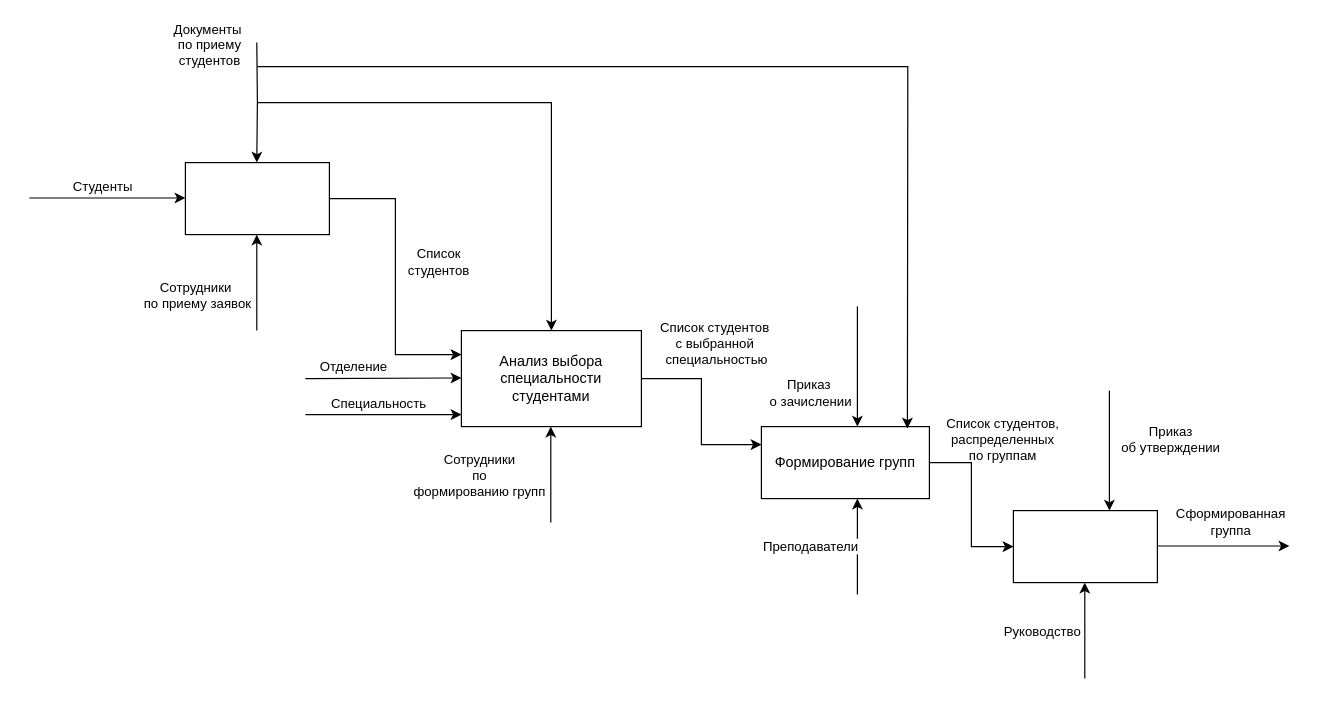
Some shapes in this 1320 by 709 pixel diagram are drawn without their labels. The centre of each missing label's shape, as x and y in pixels:
"Прием заявок" belongs at [256,198].
"Утверждение с руководством" belongs at [1084,546].
